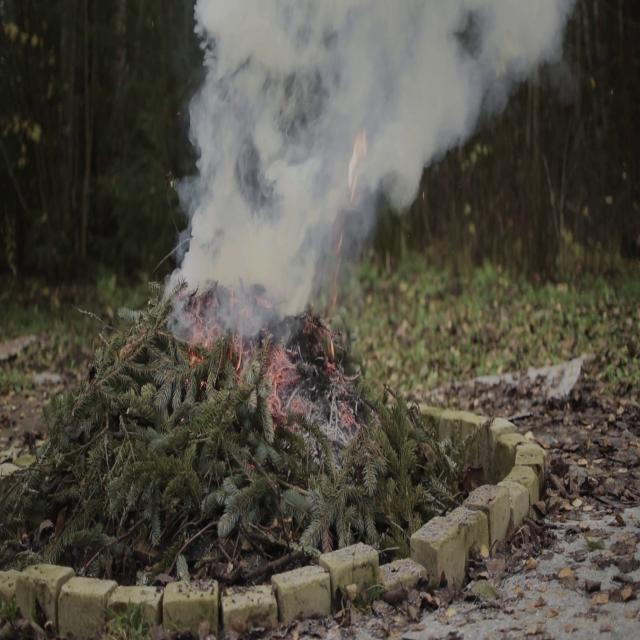Smoke: (174, 0, 543, 290)
